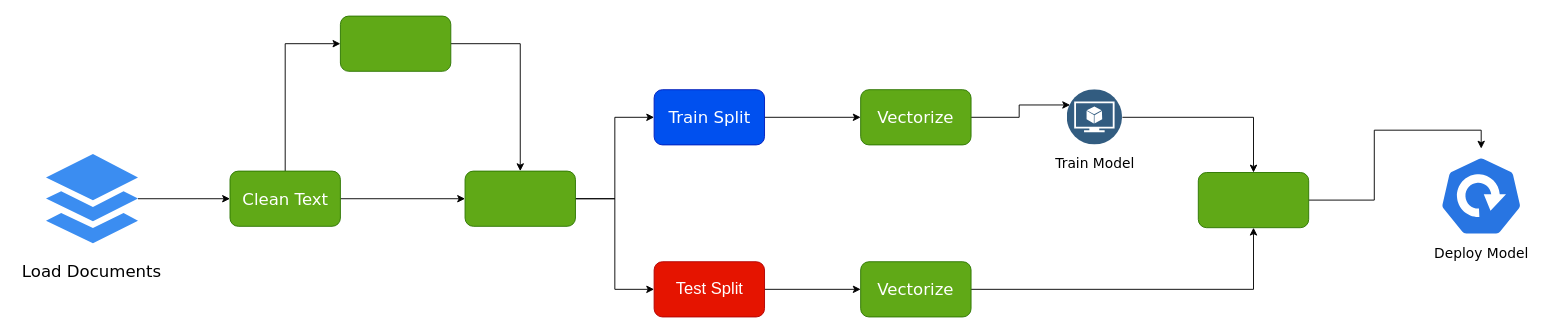
This 1552x333 diagram has some shape labels left out. Each missing label, with the centre of its shape:
Create Classes: (519,198)
Fit Vectorizer: (395,43)
Validate Model: (1253,200)
